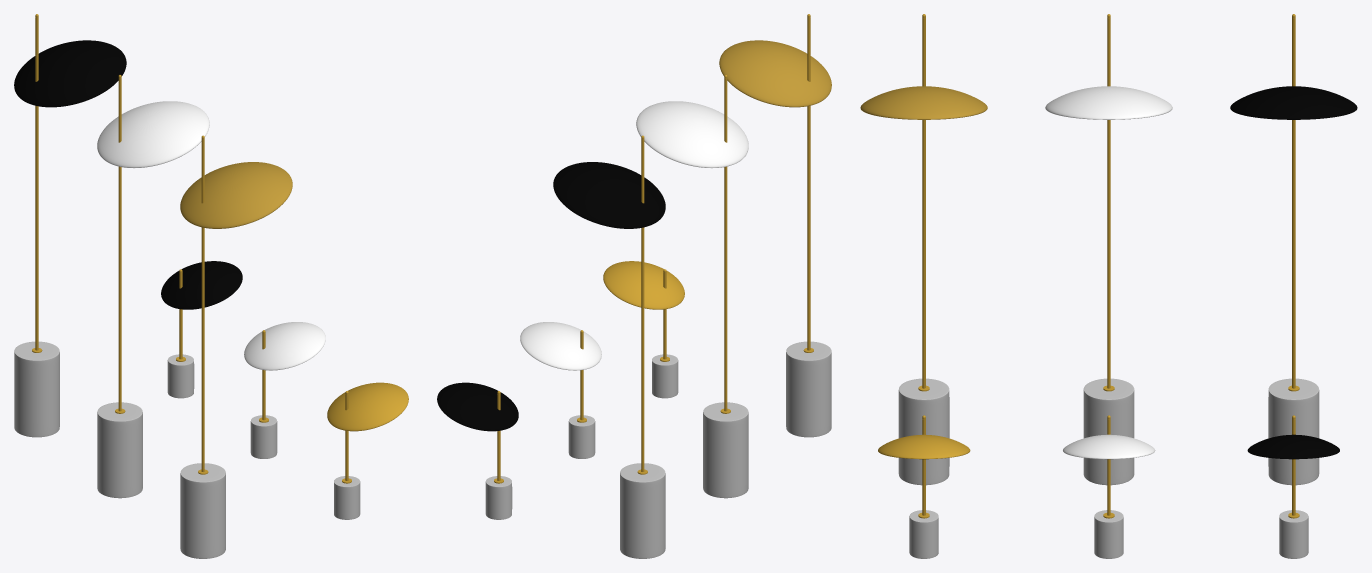
3 renders of one model, left to right at view 1: azimuth 30°, elevation 25°; view 2: azimuth 150°, elevation 25°; view 3: azimuth 270°, elevation 25°, orthographic. The views are drawn at different scales.
Visible parts, largest first — view 1: 801717_MARMARA_Lightstar, 801713_MARMARA_Lightstar, 801716_Marmara_Lightstar, 801916_Marmara_Lightstar, 801913_Marmara_Lightstar, 801917_Marmara_Lightstar; view 2: 801713_MARMARA_Lightstar, 801717_MARMARA_Lightstar, 801716_Marmara_Lightstar, 801916_Marmara_Lightstar, 801917_Marmara_Lightstar, 801913_Marmara_Lightstar; view 3: 801716_Marmara_Lightstar, 801717_MARMARA_Lightstar, 801713_MARMARA_Lightstar, 801917_Marmara_Lightstar, 801913_Marmara_Lightstar, 801916_Marmara_Lightstar.
Part boxes in pixels (x1,y1,x2,y2): 801717_MARMARA_Lightstar: [14, 14, 126, 437]; 801713_MARMARA_Lightstar: [180, 135, 292, 558]; 801716_Marmara_Lightstar: [97, 75, 209, 498]; 801916_Marmara_Lightstar: [244, 322, 325, 458]; 801913_Marmara_Lightstar: [327, 382, 408, 519]; 801917_Marmara_Lightstar: [161, 261, 242, 398]; 801713_MARMARA_Lightstar: [719, 14, 831, 437]; 801717_MARMARA_Lightstar: [553, 135, 665, 558]; 801716_Marmara_Lightstar: [636, 75, 748, 498]; 801916_Marmara_Lightstar: [520, 322, 601, 458]; 801917_Marmara_Lightstar: [437, 382, 518, 519]; 801913_Marmara_Lightstar: [603, 261, 684, 398]; 801716_Marmara_Lightstar: [1045, 14, 1172, 485]; 801717_MARMARA_Lightstar: [1230, 14, 1357, 485]; 801713_MARMARA_Lightstar: [860, 14, 987, 485]; 801917_Marmara_Lightstar: [1247, 415, 1339, 558]; 801913_Marmara_Lightstar: [878, 415, 970, 558]; 801916_Marmara_Lightstar: [1063, 415, 1155, 558].
Size of the model in its own units: 0.7639 by 1.37 by 1.34.
